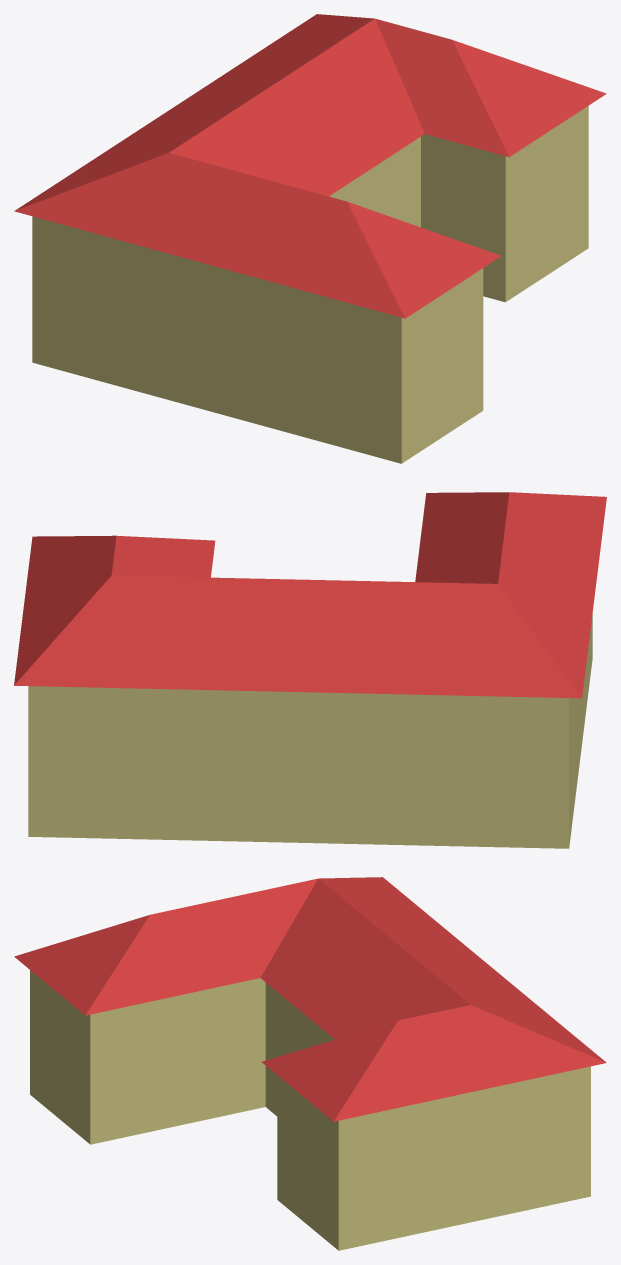
3 renders of one model, top to bottom at view 1: azimuth 30°, elevation 25°; view 2: azimuth 150°, elevation 25°; view 3: azimuth 270°, elevation 25°, orthographic. The views are drawn at different scales.
Size of the model in its own units: 24.41 by 25 by 8.64.
